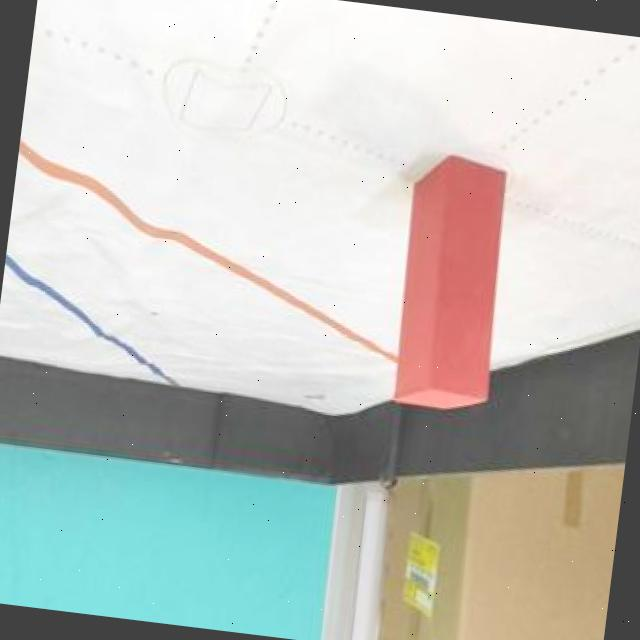redbox: (384, 148, 517, 416)
